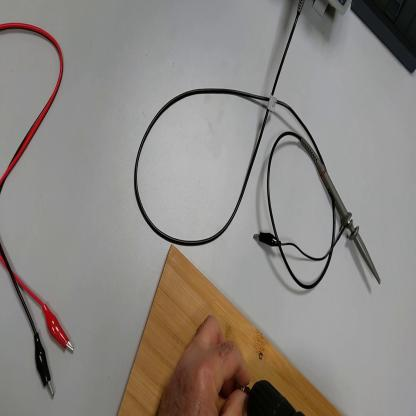electric screwdriver: (245, 381, 303, 416)
hand: (162, 316, 250, 415)
oscilloscope: (314, 1, 352, 18)
oscilloscope probe tip: (299, 138, 383, 285)
working area: (118, 246, 339, 416)
